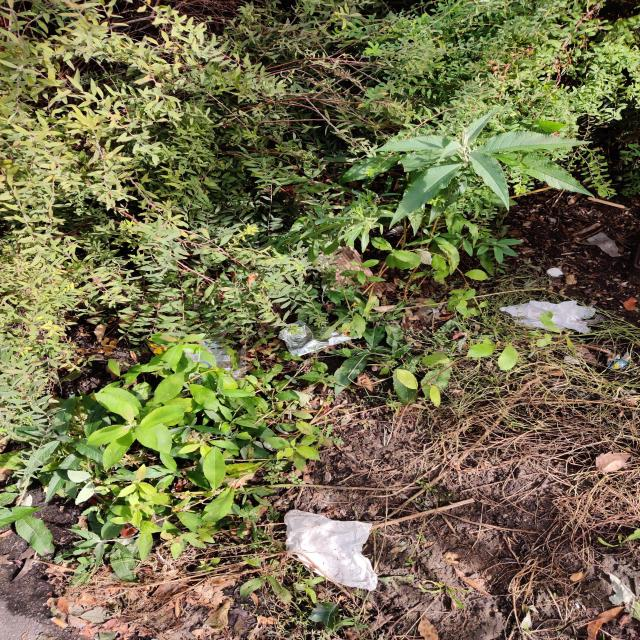litter: (252, 490, 412, 608), (497, 290, 609, 343)
